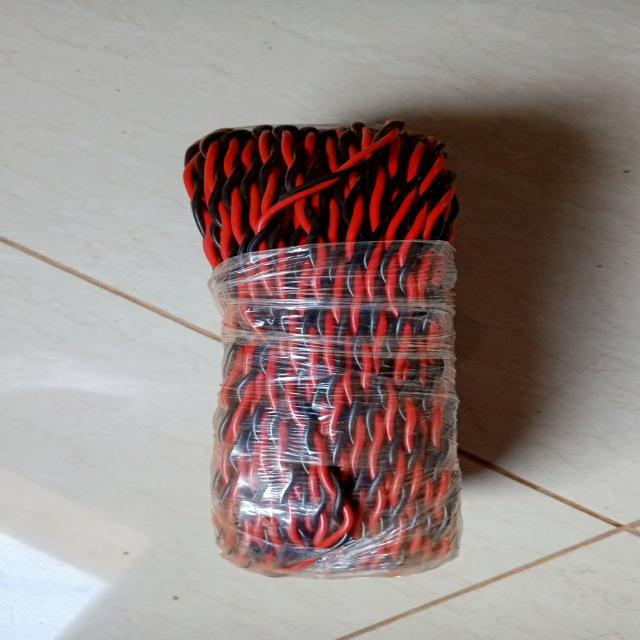Connecting Wires: (170, 119, 502, 585)
